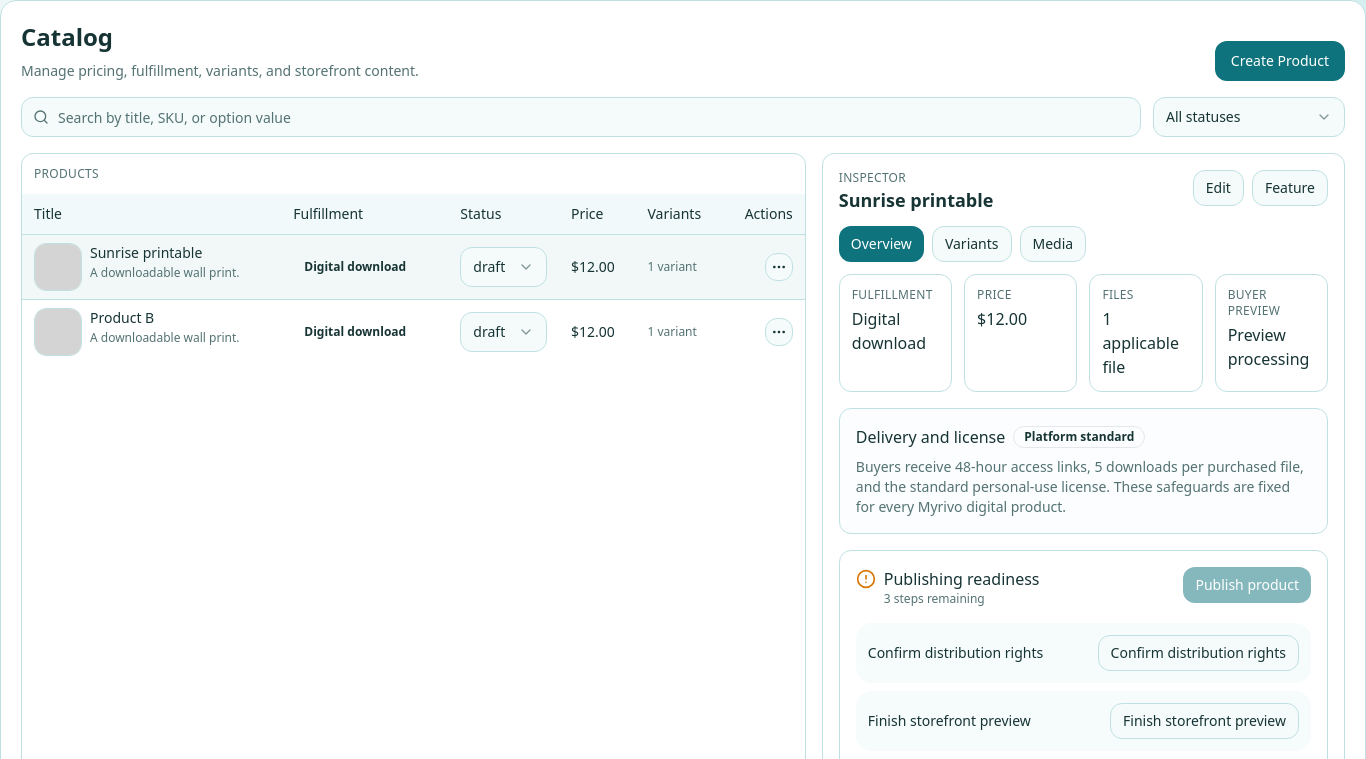
Test: ProductManager digital catalog integration › aborts a Media catalog refresh before a deferred JSON body can overwrite another product
Click the tab "Media": (1053, 244) [1020,226,1086,262]
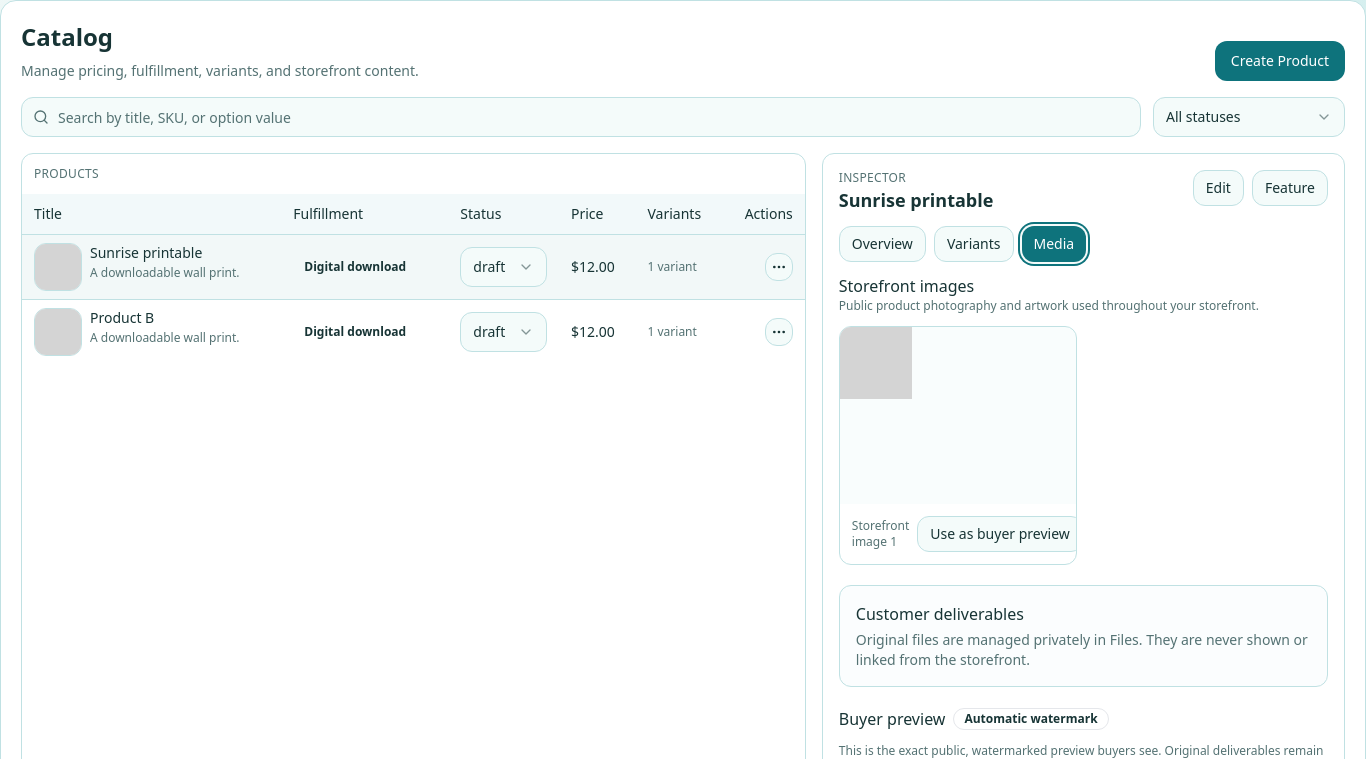
Click the button "Use as buyer preview": (1000, 534) [917,516,1083,552]
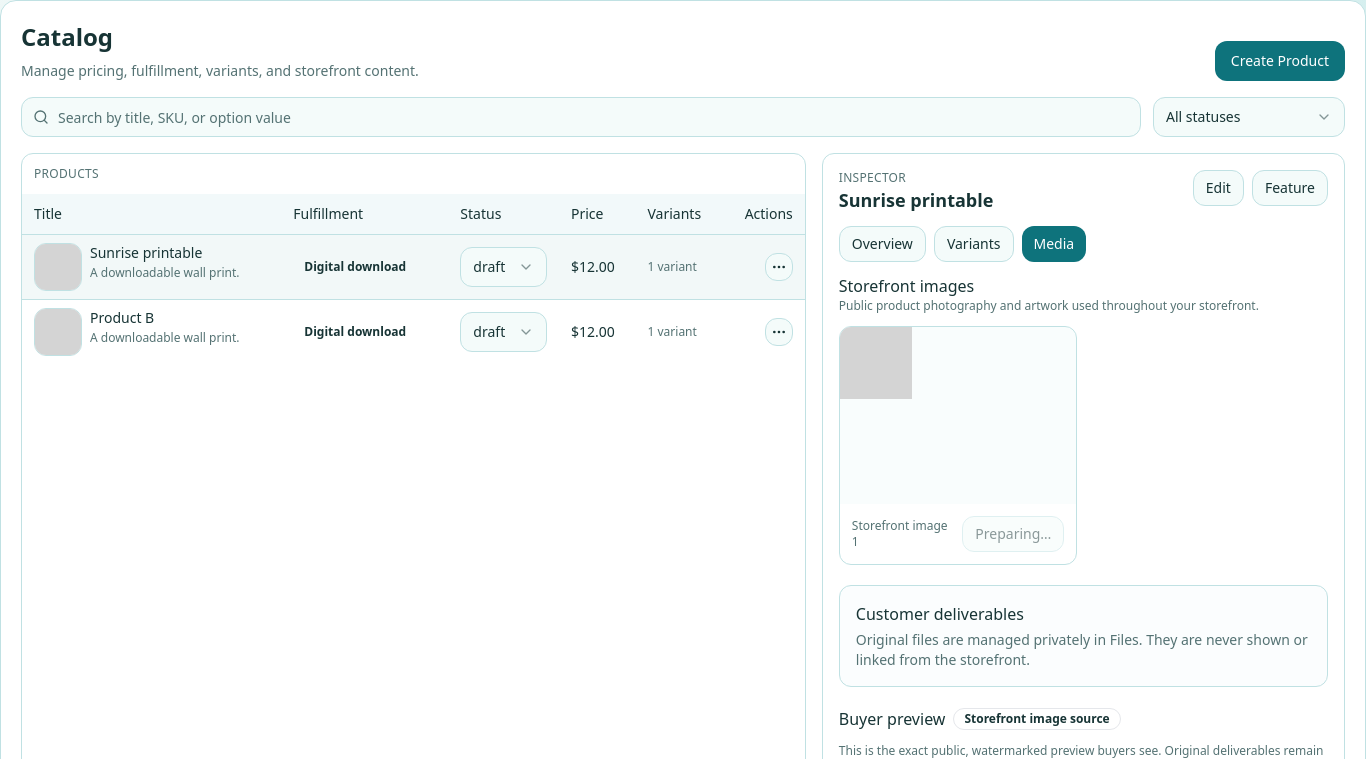
Click the text "Product B": (122, 317) [90,308,154,326]
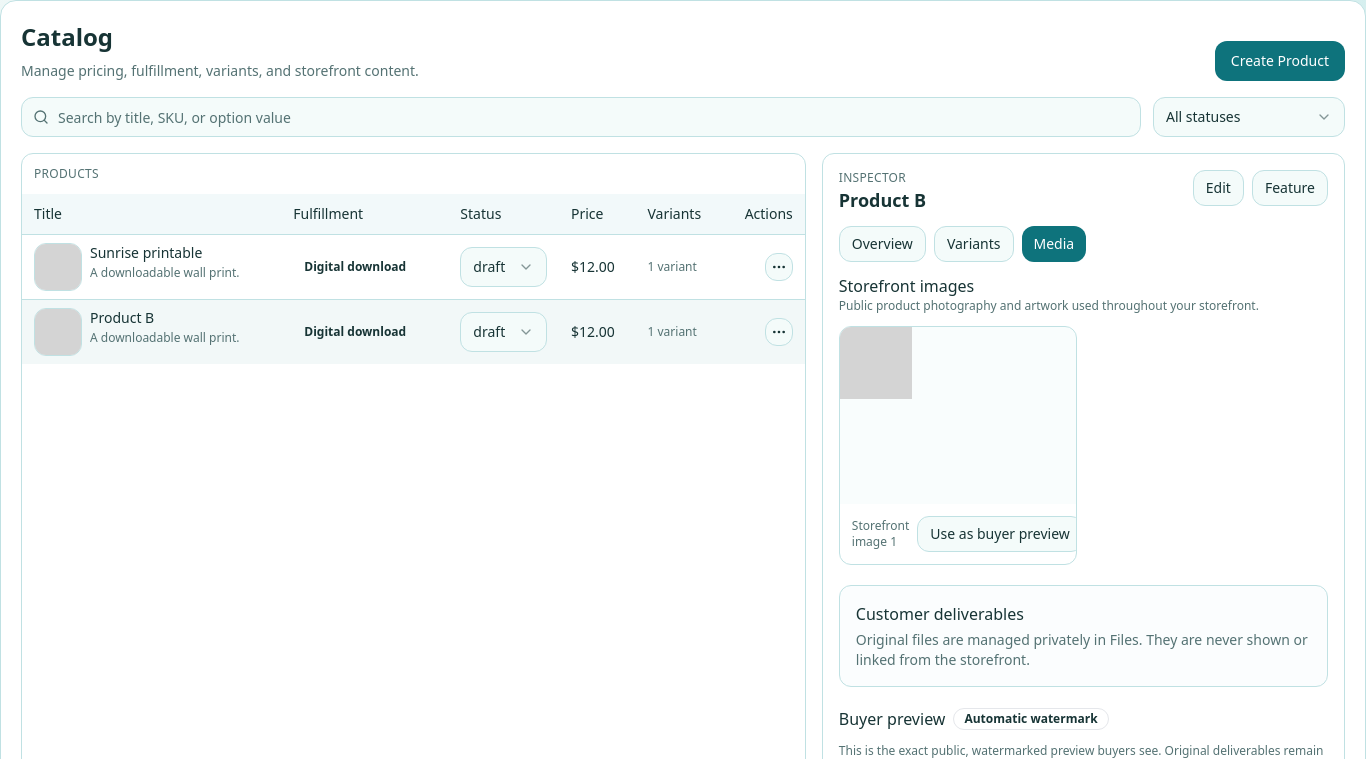
Now the heading "Product B" is shown, box [839,186,926,214]
